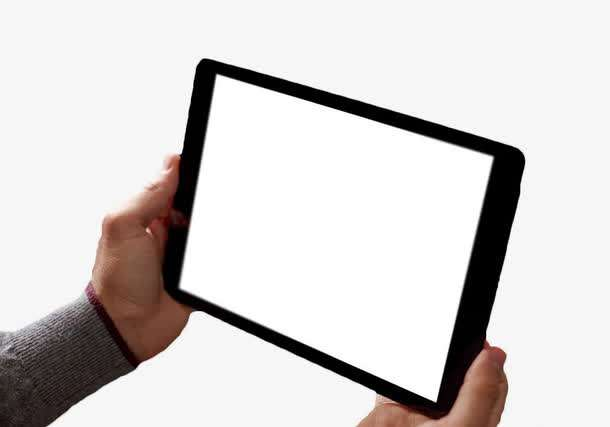pad: (82, 54, 530, 427)
